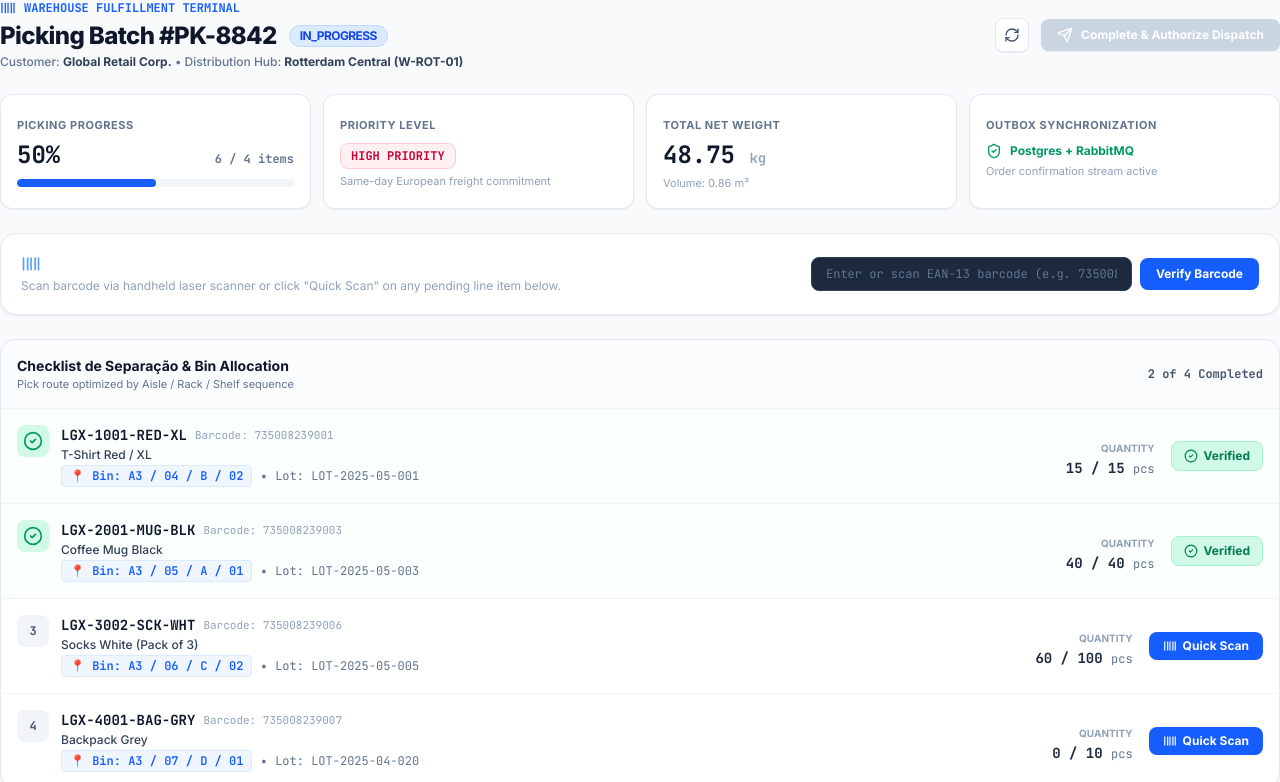
Test: PickingTerminal Component › should successfully verify an item when valid barcode is entered
Type "735008239006" into the field with placeholder "Enter or scan EAN-13 barcode (e.g. 735008239006)..." at (972, 274), box [811,256,1132,290]
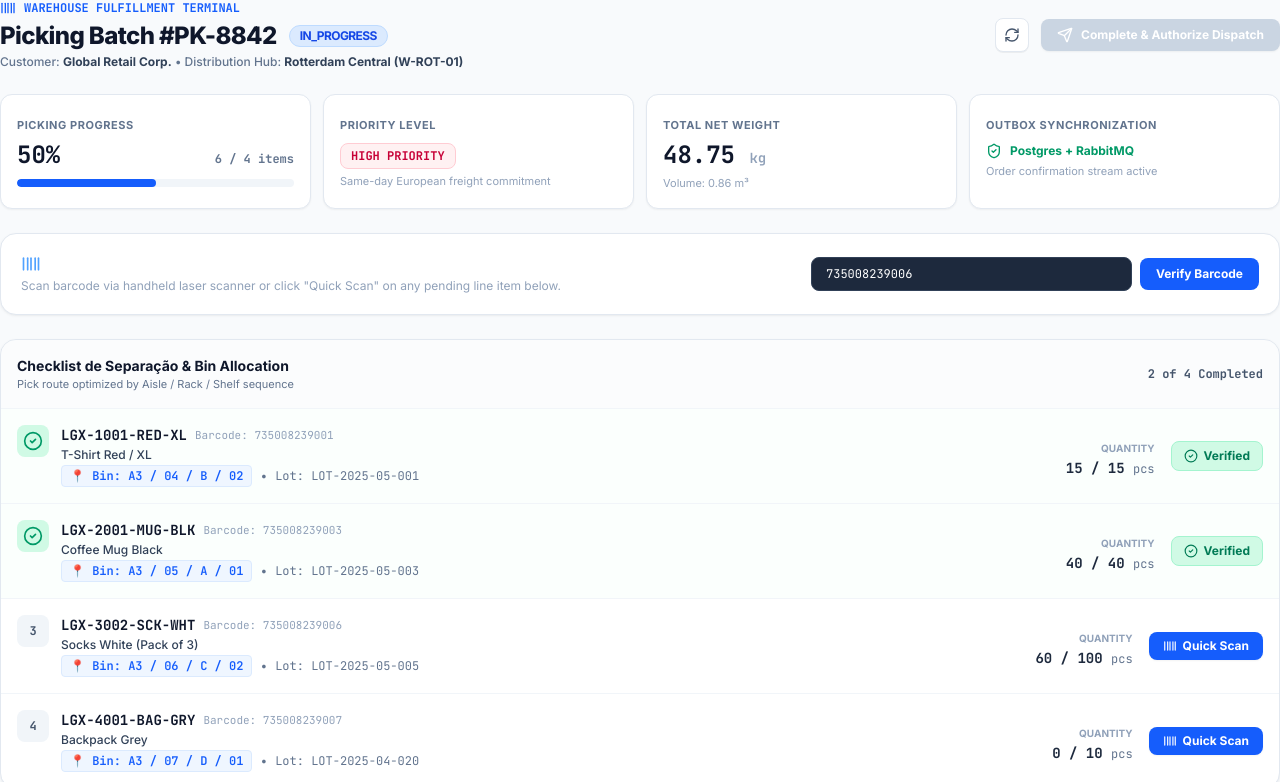
Submit the form with placeholder "Enter or scan EAN-13 barcode", box [811,256,1259,290]
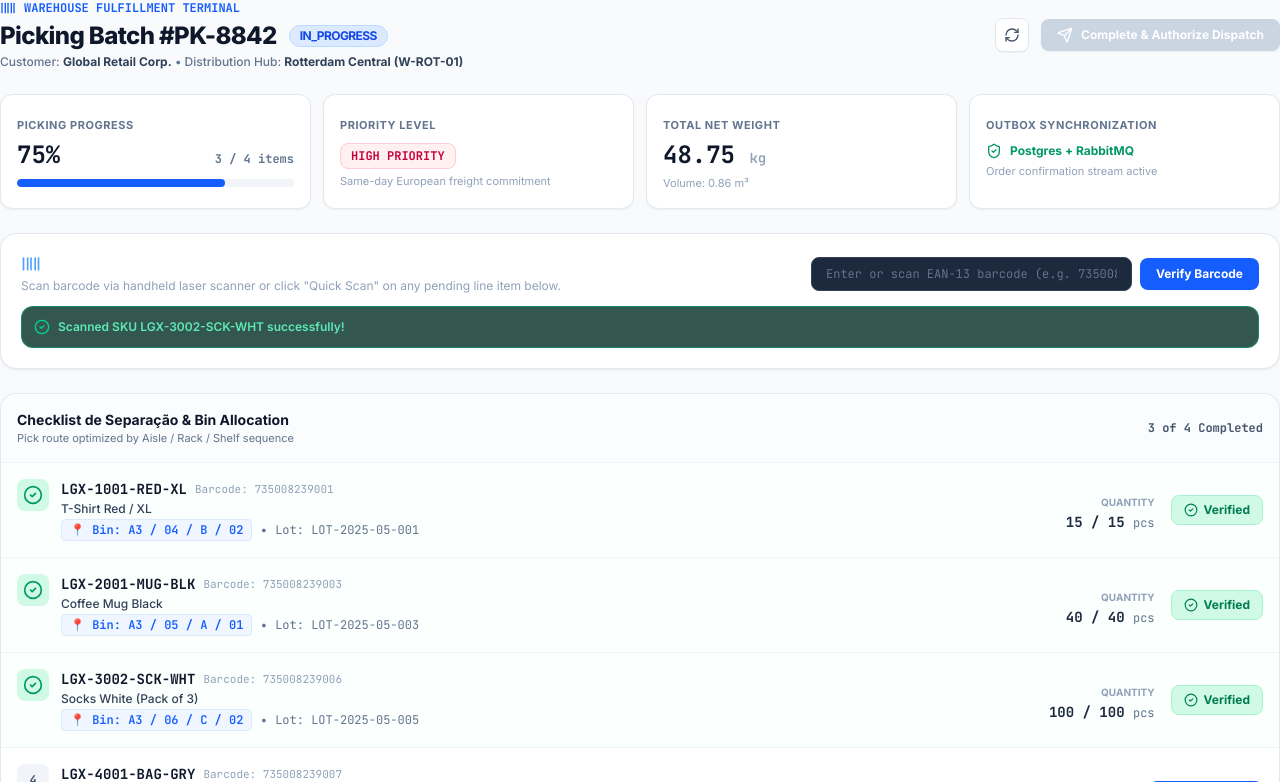
Now the text "Scanned SKU LGX-3002-SCK-WHT successfully!" is shown, box [58,318,345,334]
